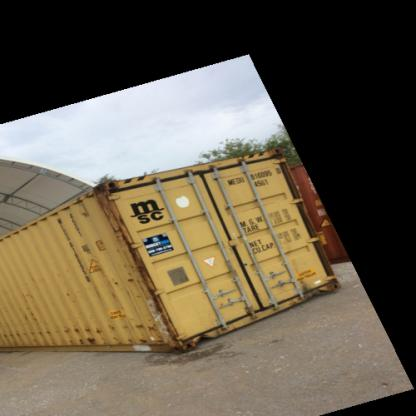Damage: (118, 234, 184, 346), (1, 321, 166, 343), (95, 175, 128, 245), (7, 295, 45, 327)
